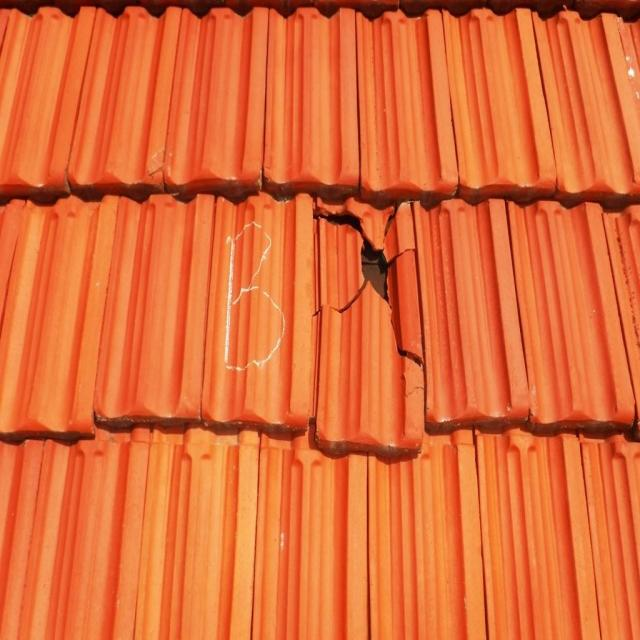damage: (306, 202, 429, 460)
